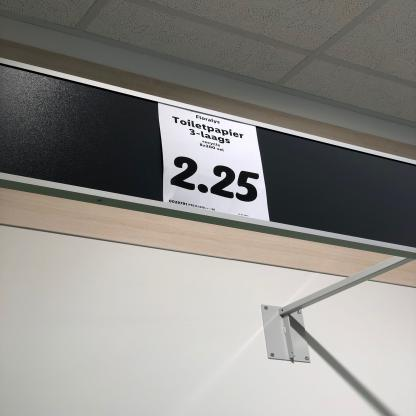prtg: (159, 103, 271, 223)
